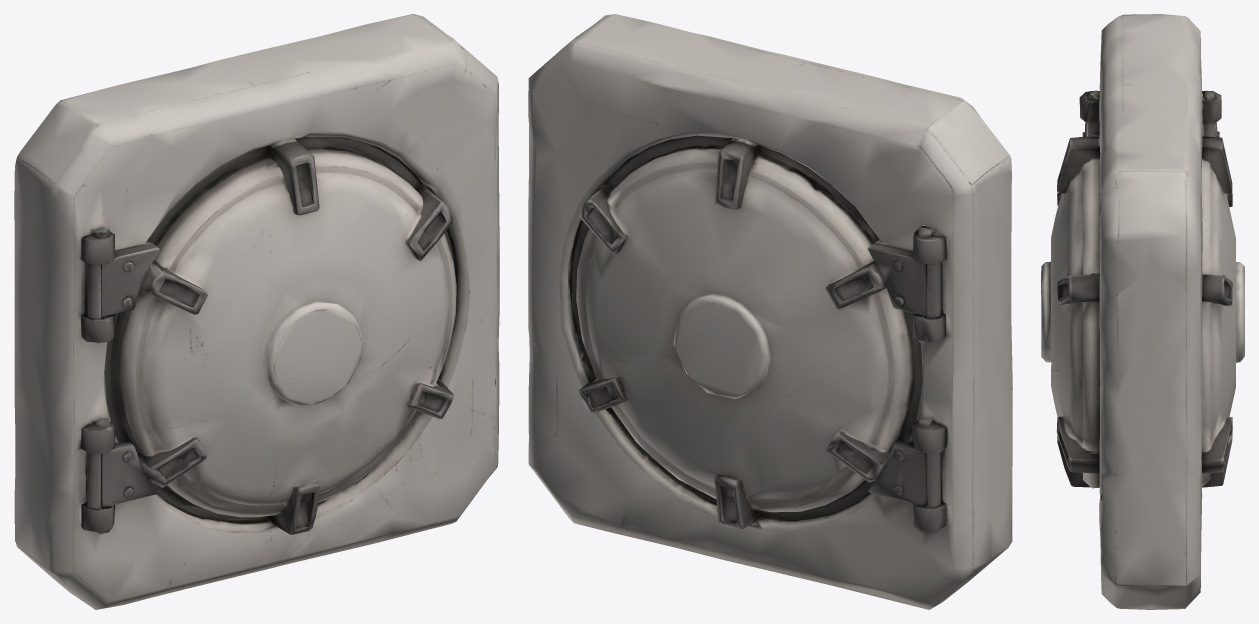
Rendered from torpedoDoor.glb.
3 renders of one model, left to right at view 1: azimuth 30°, elevation 25°; view 2: azimuth 150°, elevation 25°; view 3: azimuth 270°, elevation 25°, orthographic. The views are drawn at different scales.
Parts seen in each view (by area): view 1: tripo_node_4001a147-5fb0-4bbf-9450-e66b01e491d9; view 2: tripo_node_4001a147-5fb0-4bbf-9450-e66b01e491d9; view 3: tripo_node_4001a147-5fb0-4bbf-9450-e66b01e491d9.
Boxes of the visible parts, x1,y1,x2,y2 form: tripo_node_4001a147-5fb0-4bbf-9450-e66b01e491d9: (14,14,499,609); tripo_node_4001a147-5fb0-4bbf-9450-e66b01e491d9: (528,14,1012,609); tripo_node_4001a147-5fb0-4bbf-9450-e66b01e491d9: (1041,14,1244,609).
Size of the model in its own units: 2.89 by 3 by 1.26.
Materials: 1 (1 with a texture image).
